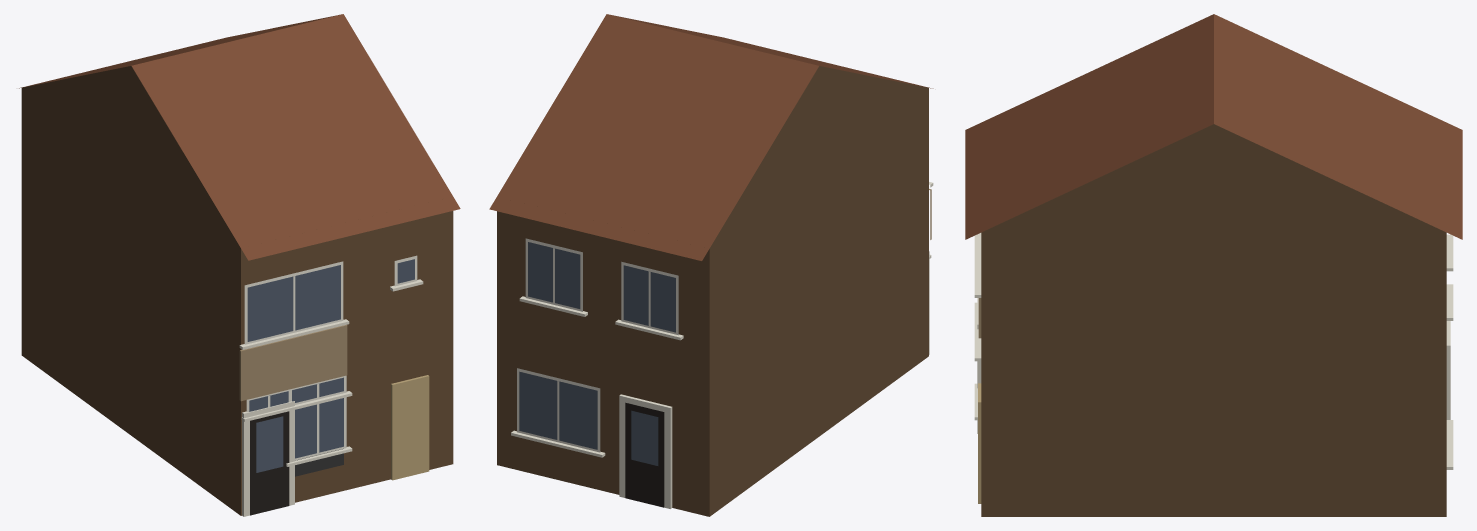
File: nw-rowhouse-tall-glass-panel__beige__2__gable__long__solid.glb
3 views of the same model, side by side, from view 1: azimuth 30°, elevation 25°; view 2: azimuth 150°, elevation 25°; view 3: azimuth 270°, elevation 25° (orthographic). The views are drawn at different scales.
Visible parts, largest first — view 1: nw-rowhouse-tall-glass-panel__beige__2__gable__long__solid; view 2: nw-rowhouse-tall-glass-panel__beige__2__gable__long__solid; view 3: nw-rowhouse-tall-glass-panel__beige__2__gable__long__solid.
Part boxes in pixels (x1,y1,x2,y2): nw-rowhouse-tall-glass-panel__beige__2__gable__long__solid: [19, 14, 460, 516]; nw-rowhouse-tall-glass-panel__beige__2__gable__long__solid: [489, 14, 933, 516]; nw-rowhouse-tall-glass-panel__beige__2__gable__long__solid: [965, 14, 1462, 516].
Size of the model in its own units: 4.92 by 8.14 by 9.34.
